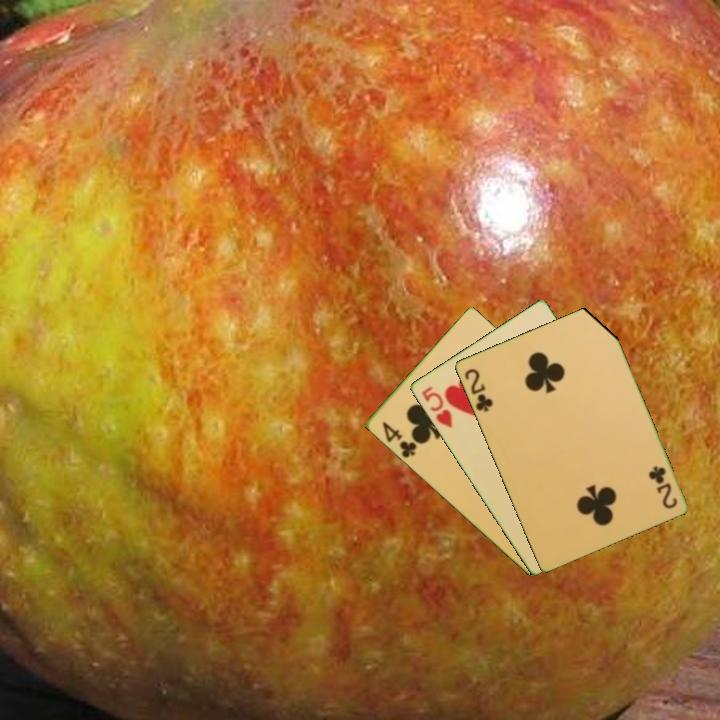2c: (645, 462, 680, 512), (461, 365, 495, 415)
4c: (378, 418, 421, 461)
5h: (418, 383, 455, 431)
